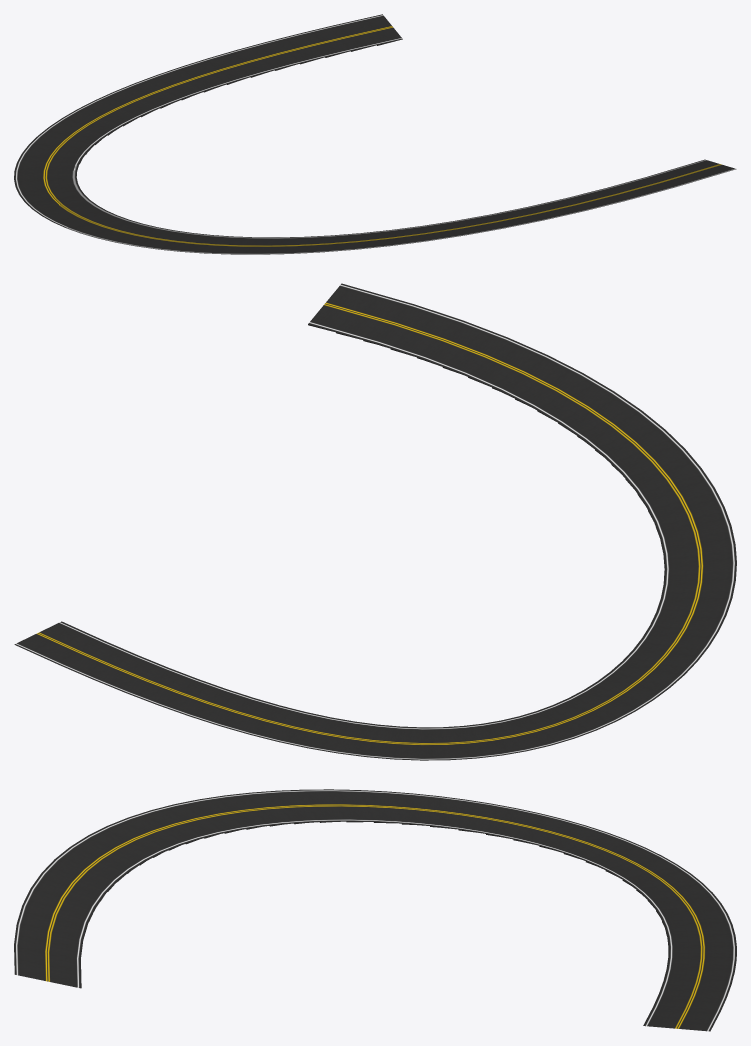
Rendered from LongCurvedRoad3.fbx.
3 renders of one model, top to bottom at view 1: azimuth 30°, elevation 25°; view 2: azimuth 150°, elevation 25°; view 3: azimuth 270°, elevation 25°, orthographic. The views are drawn at different scales.
Visible parts, largest first — view 1: Plane; view 2: Plane; view 3: Plane.
Part boxes in pixels (x1,y1,x2,y2): Plane: (14, 14, 736, 254); Plane: (14, 283, 736, 760); Plane: (14, 789, 736, 1031).
Bounding box in the file's own units: 4047 × 729 × 4733.
Materials: 1 (1 with a texture image).
